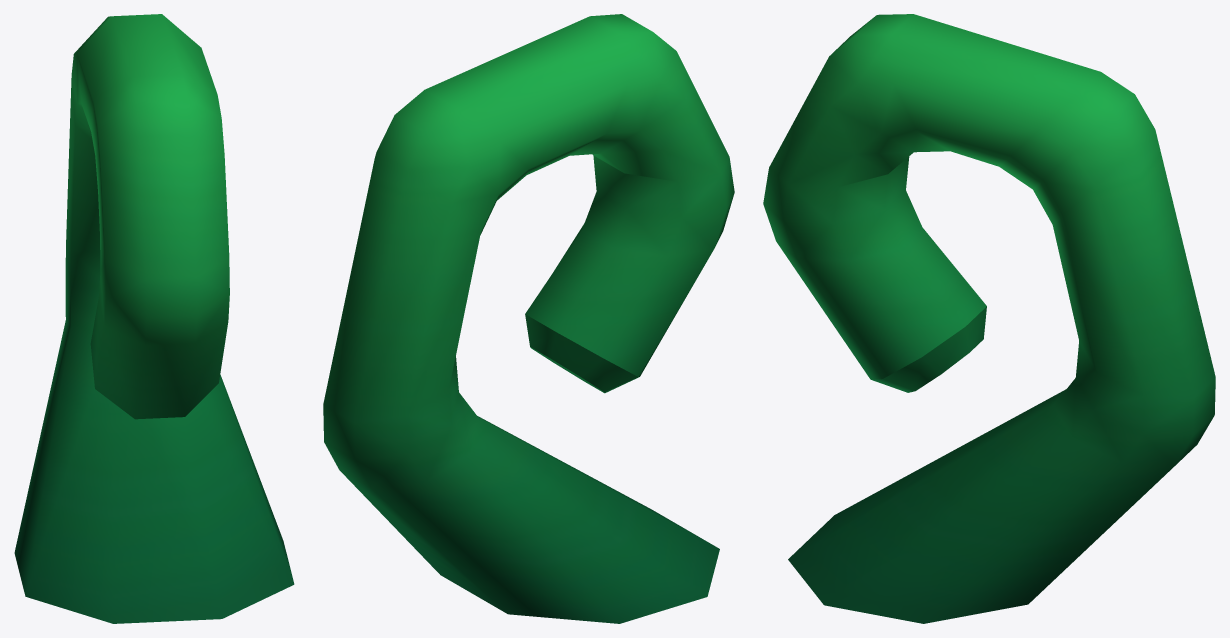
The model's file is Vine_2_2.glb.
3 views of the same model, side by side, from view 1: azimuth 30°, elevation 25°; view 2: azimuth 150°, elevation 25°; view 3: azimuth 270°, elevation 25° (orthographic). The views are drawn at different scales.
Visible parts, largest first — view 1: Vine_2_2; view 2: Vine_2_2; view 3: Vine_2_2.
Part boxes in pixels (x1=…): Vine_2_2: x1=14, y1=14, x2=294, y2=623; Vine_2_2: x1=323, y1=14, x2=734, y2=623; Vine_2_2: x1=763, y1=14, x2=1215, y2=623.
Bounding box in the file's own units: 0.1503 × 0.2766 × 0.2139.
1 material, 1 textured.
